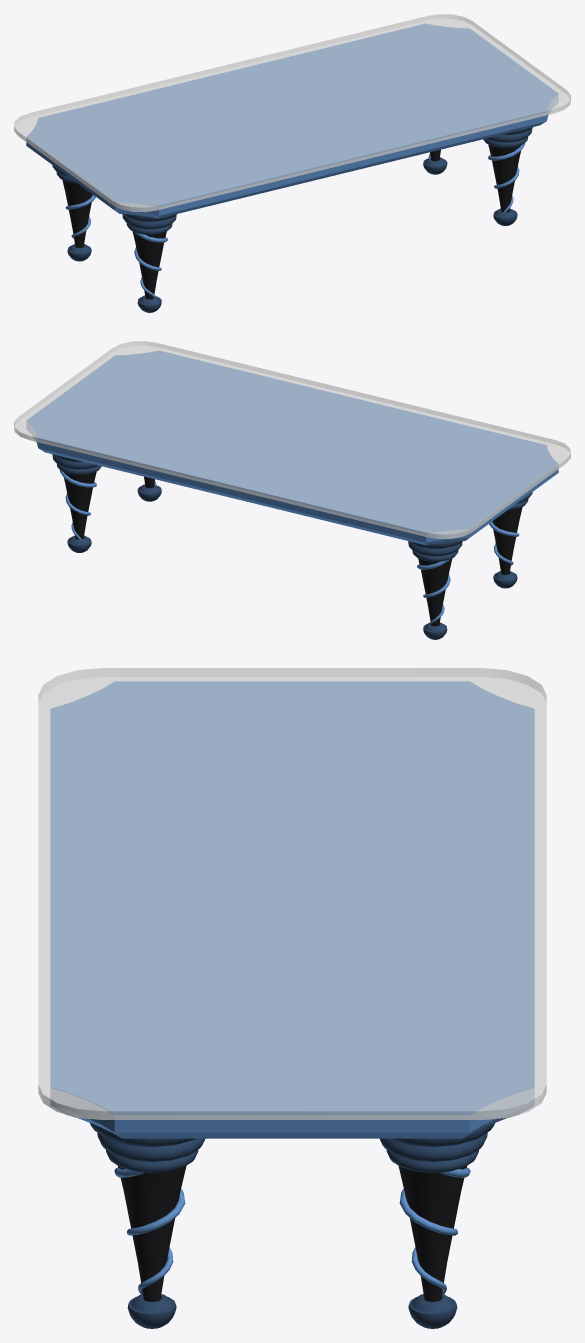
Rendered from Furn_TableFloatingBig_Blue_A.fbx.
3 renders of one model, top to bottom at view 1: azimuth 30°, elevation 25°; view 2: azimuth 150°, elevation 25°; view 3: azimuth 270°, elevation 25°, orthographic. The views are drawn at different scales.
Parts seen in each view (by area): view 1: Furn_TableFloatingBig_Blue_A.001; view 2: Furn_TableFloatingBig_Blue_A.001; view 3: Furn_TableFloatingBig_Blue_A.001.
Part boxes in pixels (left/top/right/bottom): Furn_TableFloatingBig_Blue_A.001: left=14, top=14, right=570, bottom=312; Furn_TableFloatingBig_Blue_A.001: left=14, top=341, right=570, bottom=639; Furn_TableFloatingBig_Blue_A.001: left=38, top=668, right=546, bottom=1328.
Size of the model in its own units: 1.9 by 0.5207 by 0.9209.
